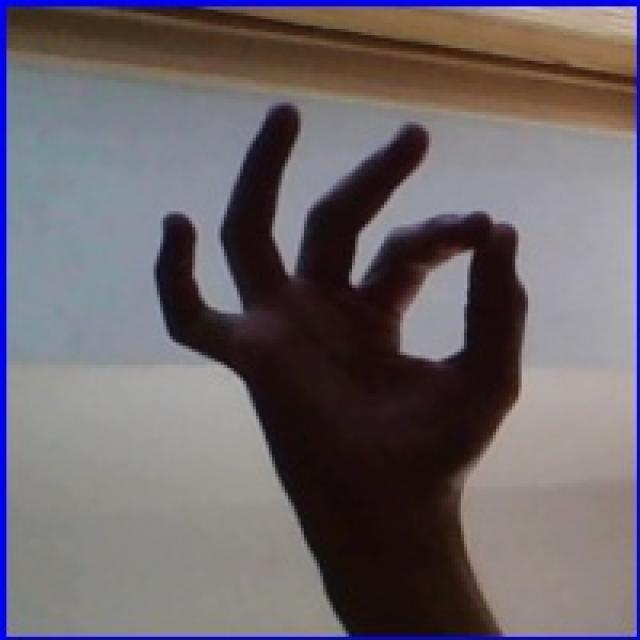F: (143, 71, 591, 635)
